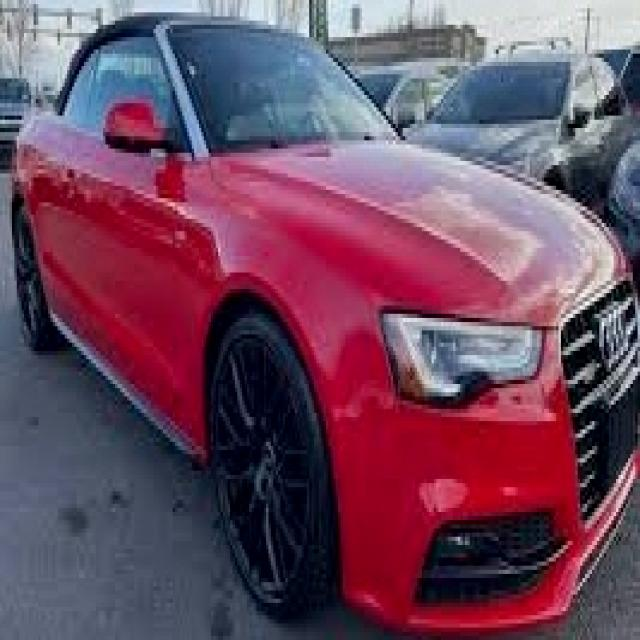red: (16, 16, 637, 640)
